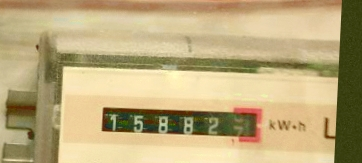1: (108, 111, 118, 130)
2: (207, 114, 220, 135)
5: (130, 112, 145, 132)
7: (231, 122, 243, 135)
8: (181, 113, 195, 134), (157, 113, 170, 133)
screen: (95, 98, 266, 146)
